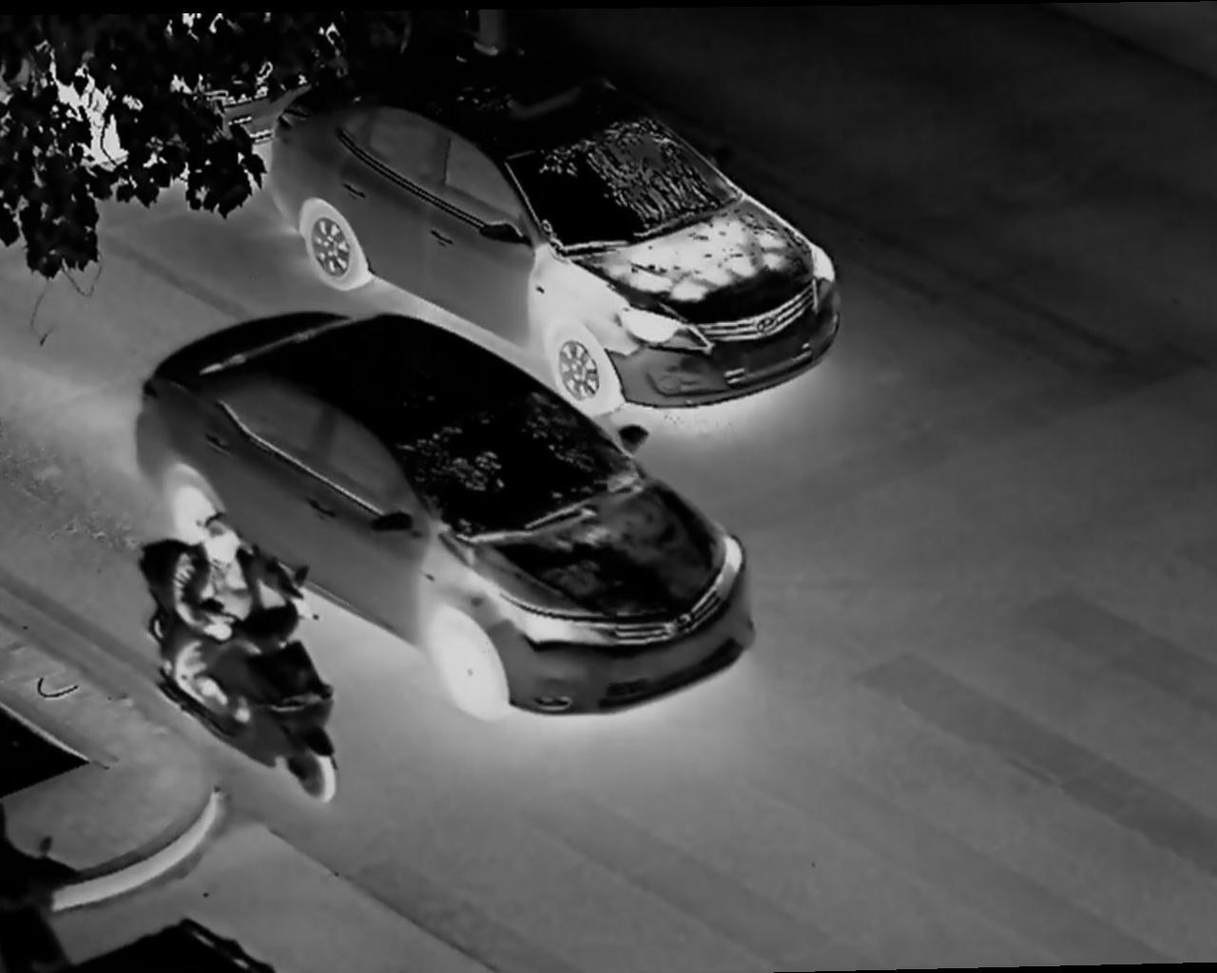person: (171, 507, 274, 722)
